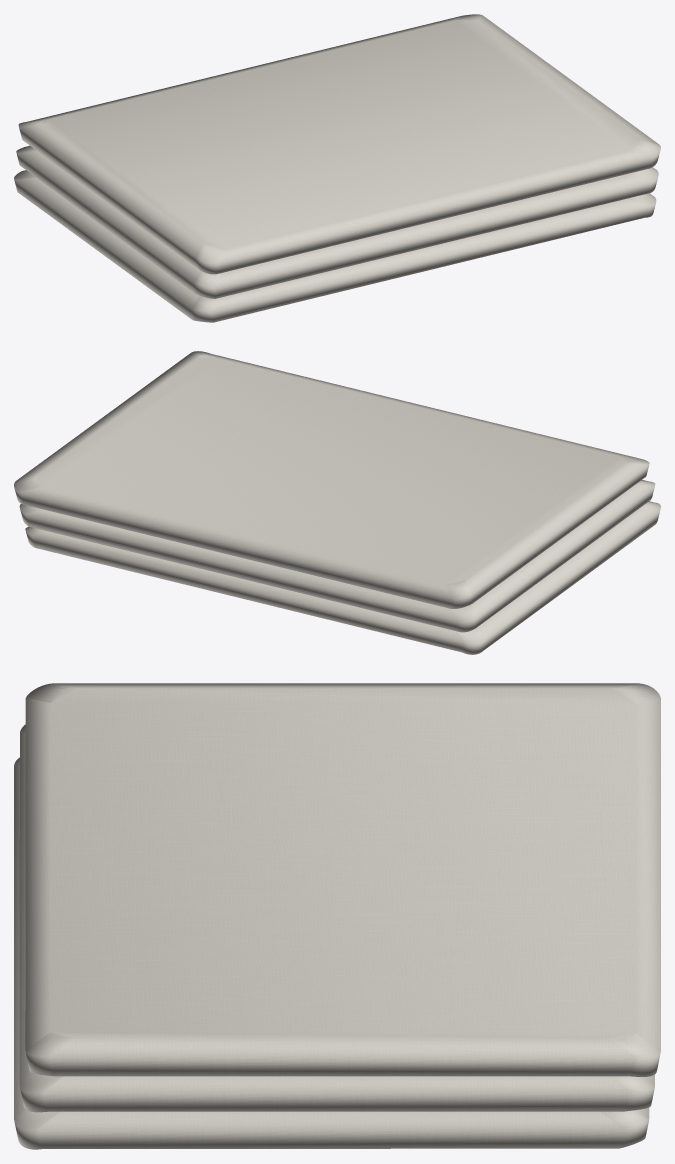
File: folded_bedsheet_stack_027_v4.glb
The picture shows the model from 3 angles, top to bottom: view 1: azimuth 30°, elevation 25°; view 2: azimuth 150°, elevation 25°; view 3: azimuth 270°, elevation 25°; orthographic projection. The views are drawn at different scales.
Visible parts, largest first — view 1: R101V4_folded_sheet_leaf.002, R101V4_folded_sheet_leaf.001, R101V4_folded_sheet_leaf; view 2: R101V4_folded_sheet_leaf.002, R101V4_folded_sheet_leaf.001, R101V4_folded_sheet_leaf; view 3: R101V4_folded_sheet_leaf.002, R101V4_folded_sheet_leaf, R101V4_folded_sheet_leaf.001.
Boxes of the visible parts, box(x1,y1,x2,y2) form: R101V4_folded_sheet_leaf.002: box(18, 14, 660, 274); R101V4_folded_sheet_leaf.001: box(16, 145, 658, 298); R101V4_folded_sheet_leaf: box(14, 170, 656, 322); R101V4_folded_sheet_leaf.002: box(14, 351, 649, 608); R101V4_folded_sheet_leaf.001: box(19, 480, 655, 632); R101V4_folded_sheet_leaf: box(25, 501, 660, 654); R101V4_folded_sheet_leaf.002: box(25, 683, 660, 1076); R101V4_folded_sheet_leaf: box(14, 757, 649, 1149); R101V4_folded_sheet_leaf.001: box(19, 724, 654, 1112).
Bounding box in the file's own units: 0.47 × 0.0644 × 0.338.
1 material, 1 textured.
